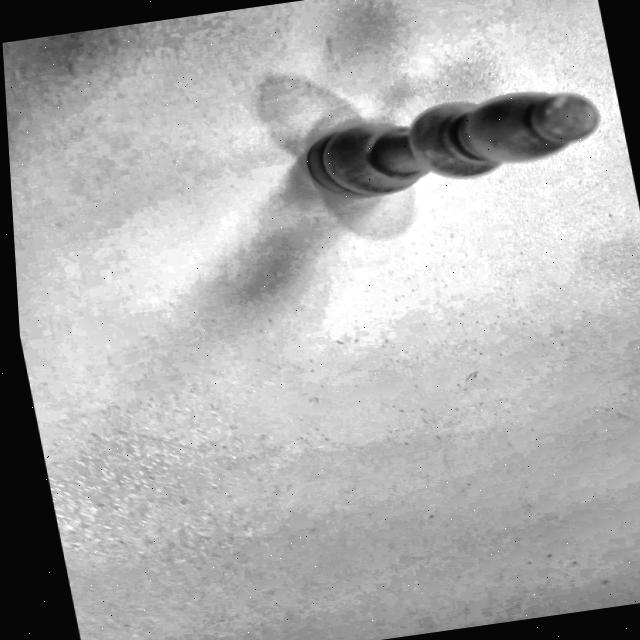white-bishop: (181, 43, 639, 248)
